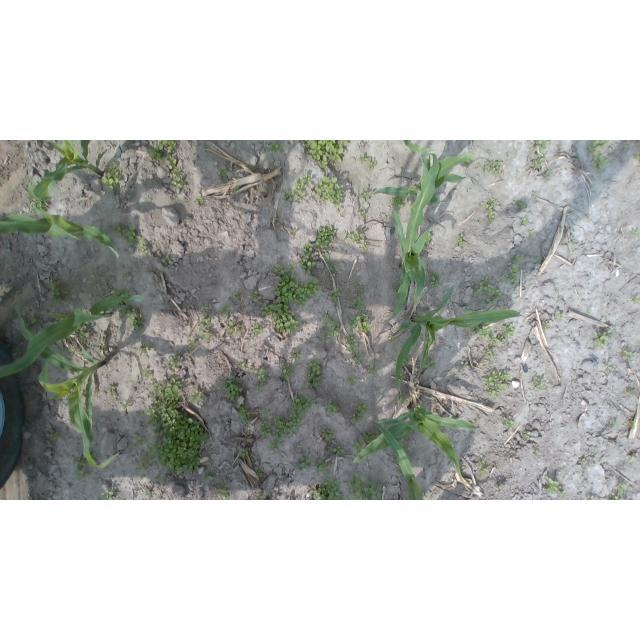Maize: (8, 298, 124, 472), (395, 287, 522, 393), (0, 294, 144, 379), (351, 406, 478, 483), (0, 183, 120, 260), (391, 155, 440, 325), (373, 140, 472, 208), (370, 418, 423, 500), (35, 140, 104, 197)
Weeds: (140, 379, 208, 479), (273, 264, 320, 304), (268, 413, 304, 452), (303, 141, 349, 170), (260, 303, 300, 336), (346, 472, 383, 500), (112, 224, 145, 253), (314, 176, 343, 205), (285, 172, 312, 202), (481, 372, 511, 399), (588, 140, 613, 172), (119, 301, 145, 331), (309, 480, 344, 501), (474, 282, 503, 307), (220, 376, 243, 403), (103, 162, 122, 194), (148, 140, 177, 160), (314, 225, 337, 250), (348, 310, 371, 334), (300, 243, 316, 275), (320, 314, 340, 339), (291, 395, 318, 413), (306, 359, 323, 387), (592, 327, 612, 350), (73, 455, 90, 482), (50, 282, 71, 303), (352, 400, 369, 425), (482, 160, 504, 178), (501, 264, 519, 285), (255, 367, 269, 393), (358, 152, 377, 171), (543, 475, 560, 495), (471, 324, 492, 340), (344, 229, 365, 243), (324, 443, 345, 457), (279, 363, 295, 381), (486, 197, 497, 223), (172, 167, 185, 189), (324, 251, 337, 273), (576, 457, 596, 471), (238, 403, 251, 424), (611, 484, 628, 500), (324, 400, 340, 417), (30, 200, 49, 214), (530, 140, 552, 152), (71, 324, 89, 338), (327, 287, 343, 302), (344, 336, 358, 353), (267, 140, 284, 153), (99, 488, 116, 501), (364, 431, 381, 444), (531, 156, 545, 171), (322, 427, 337, 441), (531, 377, 545, 392), (391, 195, 407, 208), (428, 271, 440, 288), (395, 432, 406, 450), (351, 297, 367, 309), (227, 322, 239, 338), (352, 353, 368, 365), (259, 420, 271, 436), (489, 333, 505, 345), (315, 460, 329, 473), (220, 304, 233, 317), (298, 456, 311, 469), (503, 324, 516, 337), (139, 343, 154, 354), (361, 188, 374, 200), (216, 488, 229, 500), (219, 165, 230, 179), (603, 362, 615, 374), (199, 332, 211, 344), (142, 368, 153, 381), (168, 355, 181, 366), (353, 439, 363, 453), (112, 288, 129, 296), (517, 200, 528, 212), (290, 348, 301, 360), (622, 348, 632, 361), (368, 365, 379, 376), (254, 466, 264, 478), (505, 418, 515, 429), (133, 435, 144, 445), (485, 348, 494, 360), (347, 375, 357, 385), (201, 302, 210, 313), (200, 319, 211, 328), (253, 325, 262, 336), (556, 311, 565, 322), (424, 232, 432, 244), (457, 234, 464, 247), (238, 448, 248, 457), (251, 291, 260, 301), (204, 471, 213, 481), (195, 196, 206, 204), (362, 241, 369, 253), (168, 160, 177, 169), (400, 396, 409, 405), (543, 321, 552, 330), (161, 256, 171, 264), (31, 314, 39, 324), (50, 431, 58, 441), (188, 339, 196, 349), (627, 389, 638, 396), (522, 431, 531, 439), (91, 451, 99, 460), (464, 305, 473, 313), (301, 384, 310, 392), (261, 409, 269, 418), (427, 360, 435, 369), (109, 385, 116, 395), (480, 468, 488, 476), (528, 230, 536, 238), (632, 229, 640, 237), (476, 460, 484, 468), (414, 403, 422, 411), (460, 360, 468, 368), (631, 296, 640, 303), (513, 255, 522, 262), (628, 421, 635, 429), (122, 401, 129, 409), (389, 336, 396, 344), (288, 229, 296, 236), (357, 284, 364, 292), (240, 362, 249, 368), (392, 284, 398, 293), (256, 495, 266, 500), (521, 218, 528, 225), (545, 169, 552, 176), (235, 293, 242, 300), (482, 276, 489, 283), (360, 210, 366, 218), (634, 155, 640, 162), (533, 450, 540, 456), (33, 181, 39, 188), (122, 272, 127, 280), (534, 253, 539, 261), (399, 373, 403, 382), (464, 159, 470, 165), (92, 342, 98, 348), (274, 212, 278, 221), (567, 240, 574, 245), (588, 496, 595, 501), (427, 202, 433, 207), (610, 420, 616, 425), (473, 420, 479, 425), (147, 491, 151, 498), (560, 494, 565, 499), (635, 456, 640, 461), (239, 372, 244, 377), (532, 192, 536, 197)
